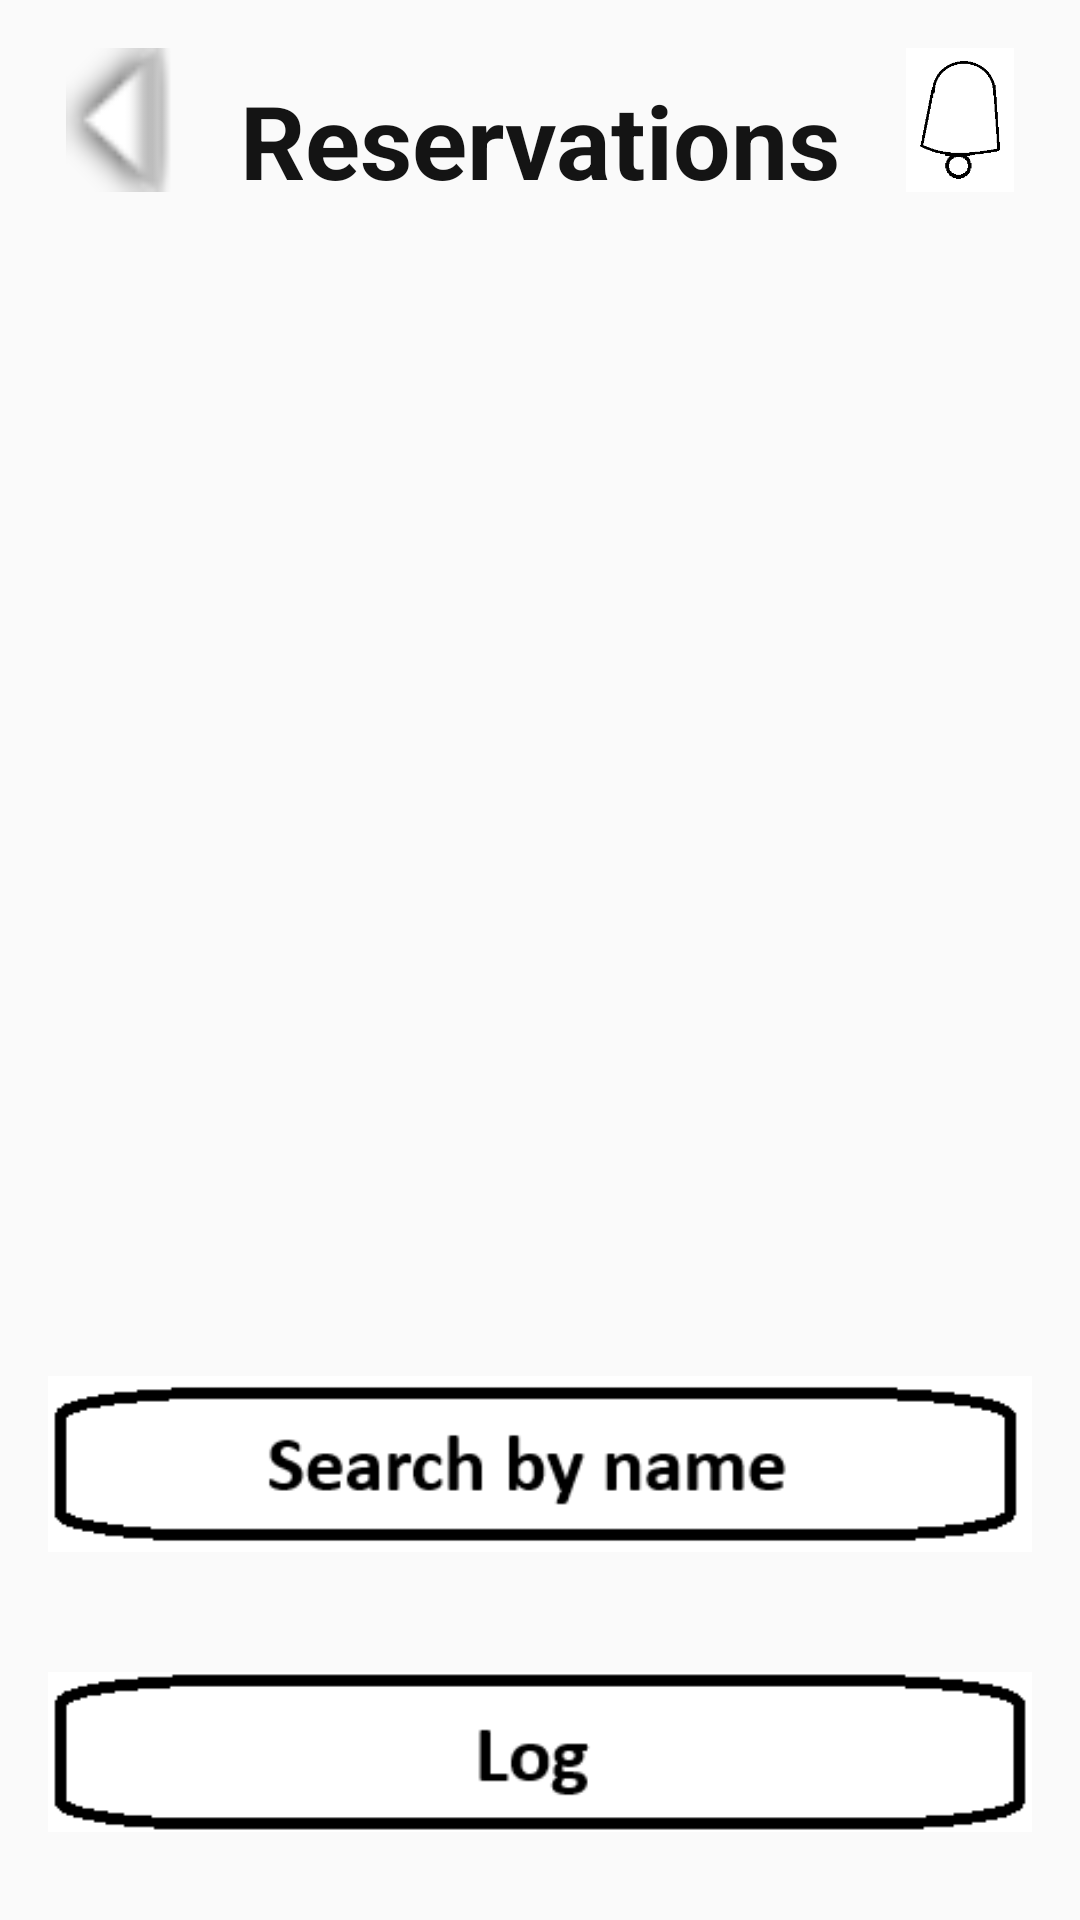

Screen size 1080px x 1920px. Icon name, then its center in pixels as (x=x, y=y):
Notifications: (x=960, y=120)
